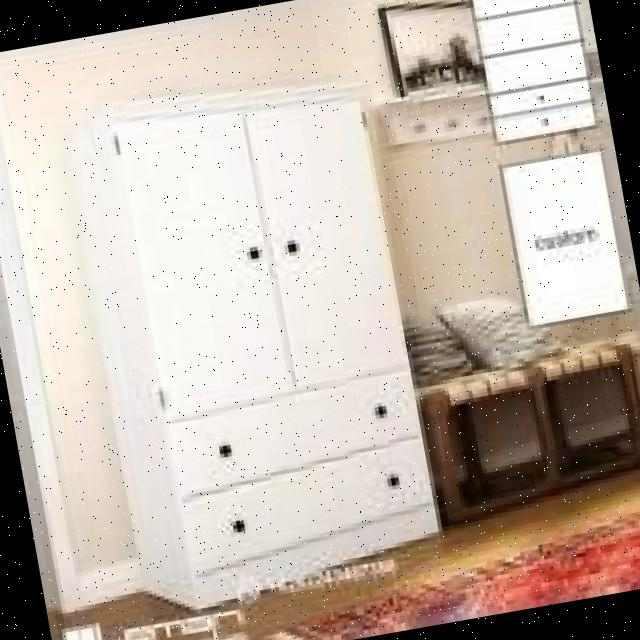Closet: (61, 62, 452, 626)
